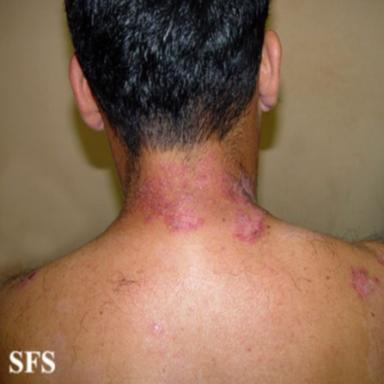Hailey-Hailey-Disease: (139, 164, 254, 231), (233, 209, 267, 244), (351, 267, 379, 299)
